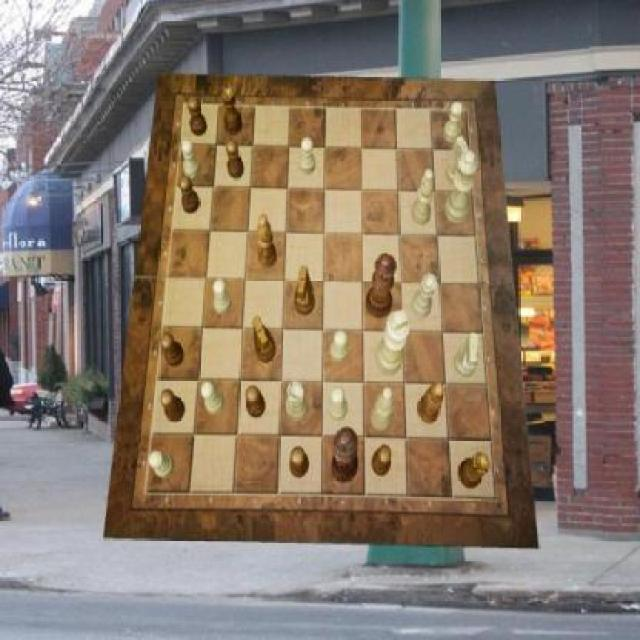bishop: (417, 383, 444, 425), (257, 214, 277, 268)
black-bishop: (332, 428, 360, 484)
black-king: (252, 317, 276, 363), (294, 266, 314, 316)
black-knight: (160, 389, 186, 423), (160, 332, 184, 367), (178, 175, 200, 213), (188, 97, 208, 137), (227, 140, 246, 180), (289, 446, 309, 479), (246, 386, 266, 419), (372, 445, 392, 477)
black-pawn: (366, 252, 397, 318)
black-queen: (458, 451, 492, 488), (222, 84, 242, 136)
black-rook: (412, 170, 435, 226), (371, 386, 394, 432)
white-bishop: (375, 309, 411, 375)
white-king: (446, 136, 473, 184), (454, 332, 478, 378)
white-knight: (443, 102, 463, 143), (202, 382, 226, 416), (212, 278, 232, 314), (182, 140, 200, 180), (150, 451, 176, 478), (329, 388, 348, 422), (300, 137, 317, 175), (331, 331, 348, 363)
white-pawn: (445, 150, 480, 224)
white-queen: (411, 272, 437, 318), (286, 382, 309, 422)
